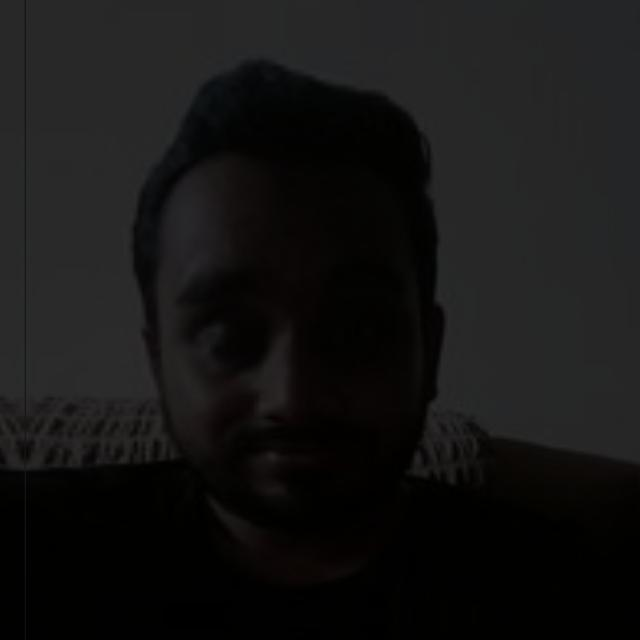Disgust: (97, 115, 460, 530)
